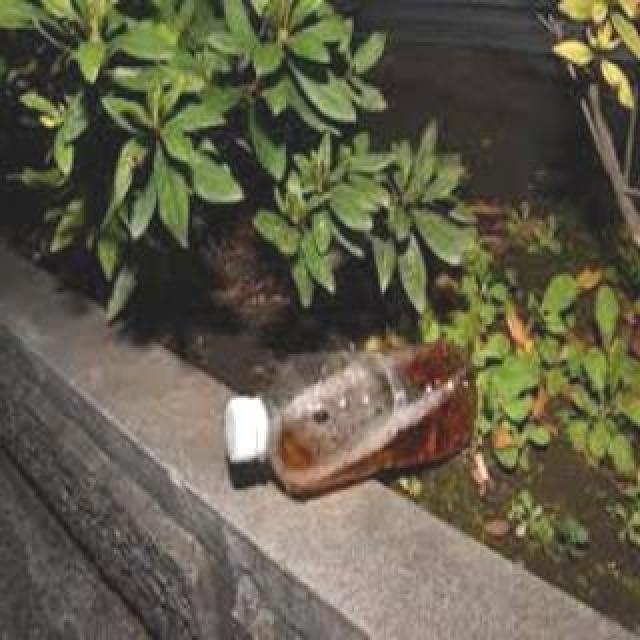Pet_Bottle: (228, 344, 478, 500)
